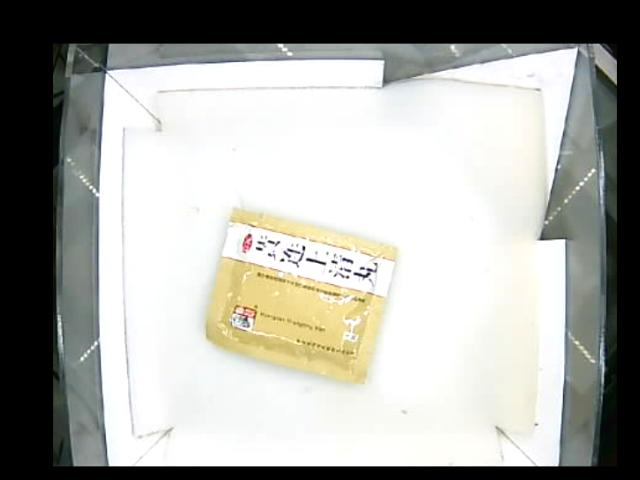Medicine: (205, 208, 394, 382)
